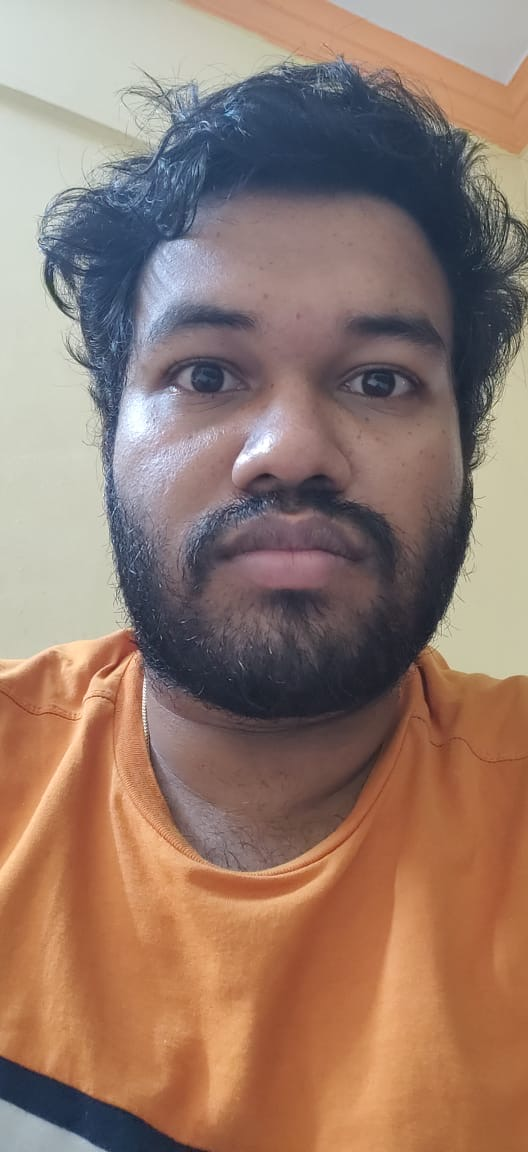Not Sleeping: (136, 344, 446, 430)
